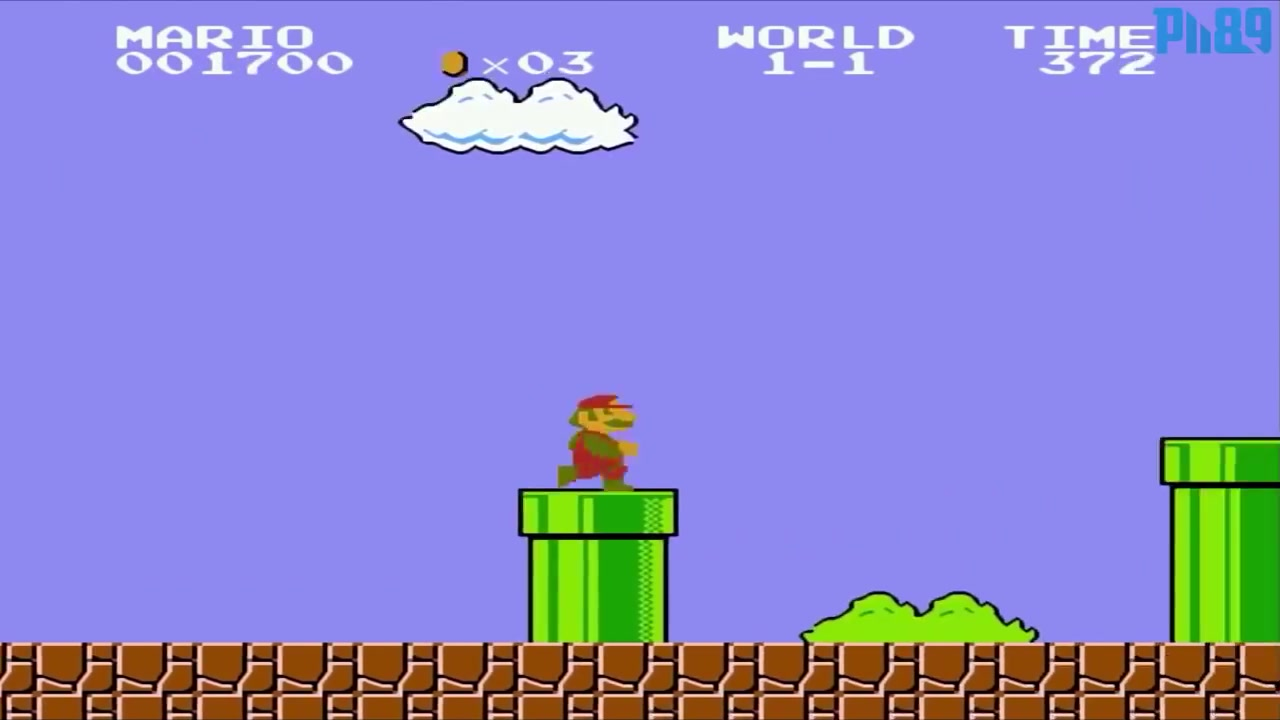mario: (550, 386, 644, 487)
